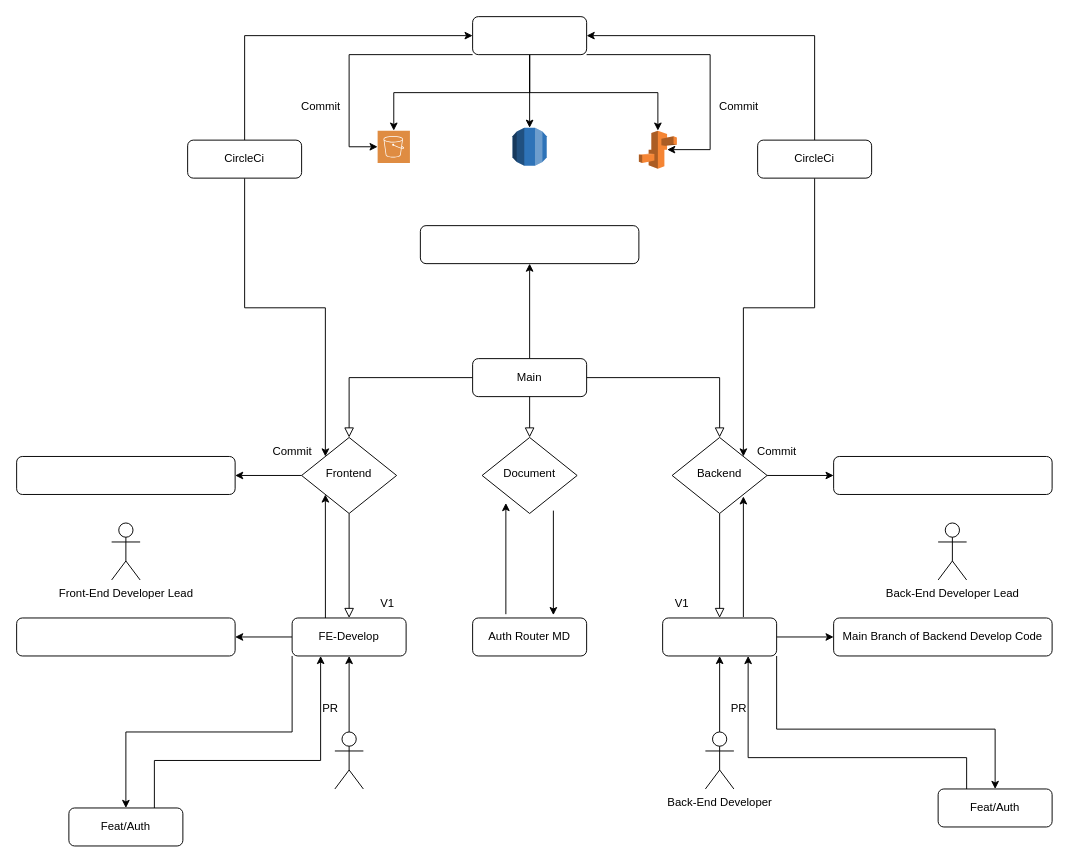
Image size: 1069x863. Some labels were removed from this diagram. The shapes that lost their labels are listed below. From the top down, each one's centre as x and y in pixels, then its label:
the point at 529,35: AWS
the point at 529,244: Main Branch of Document
the point at 125,475: Main Branch of Frontend Stable Code
the point at 942,475: Main Branch of Backend Stable Code
the point at 125,636: Main Branch of Frontend Develop Code
the point at 719,636: BE-Develop
the point at 348,760: Front-End Developer
